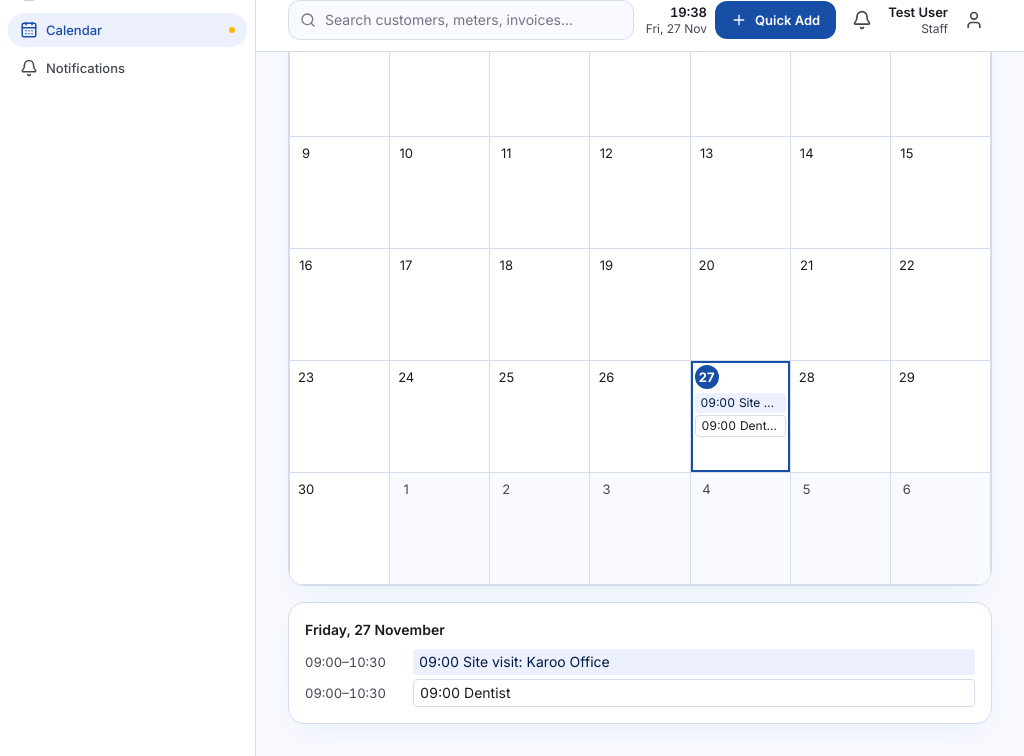
Google Calendar on the calendar page › shows Google events beside Umbane’s, and disconnects
The image size is (1024, 756).
(page scrolled)
What coordinates should you click on to do the following:
click the button with aria-label "Google Calendar: Dentist"
I would click on:
 (740, 426)
Its box is [695,415,786,437].
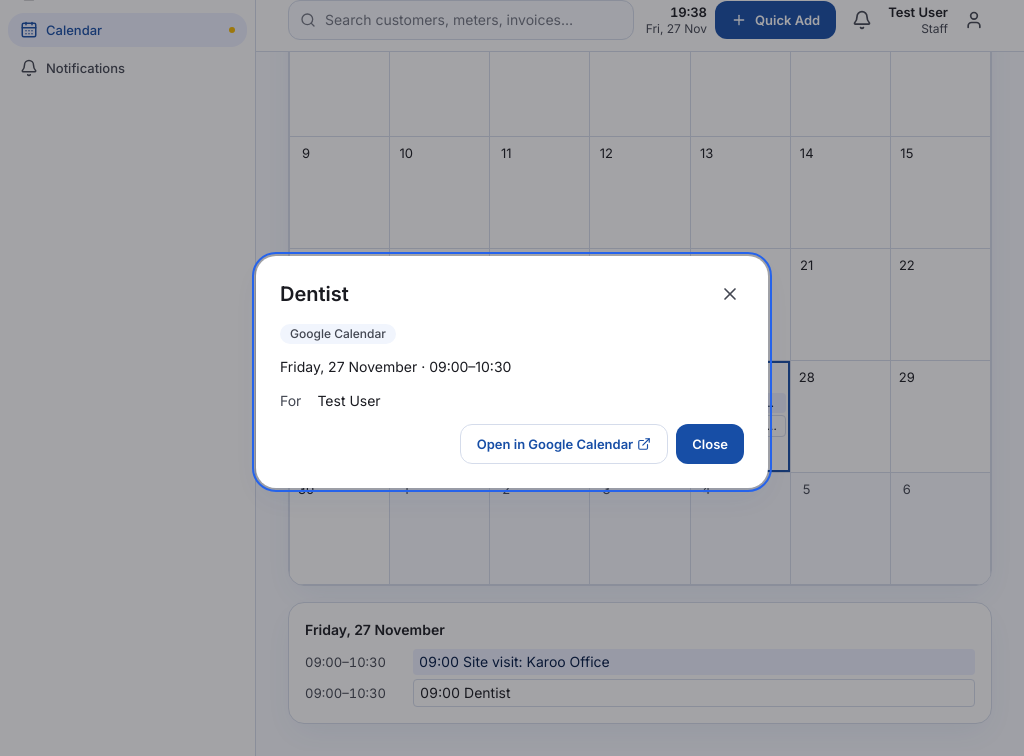
What coordinates should you click on to do the following:
click the button "Close"
I would click on:
 (710, 444)
Its box is [676,424,744,464].
(page scrolled)
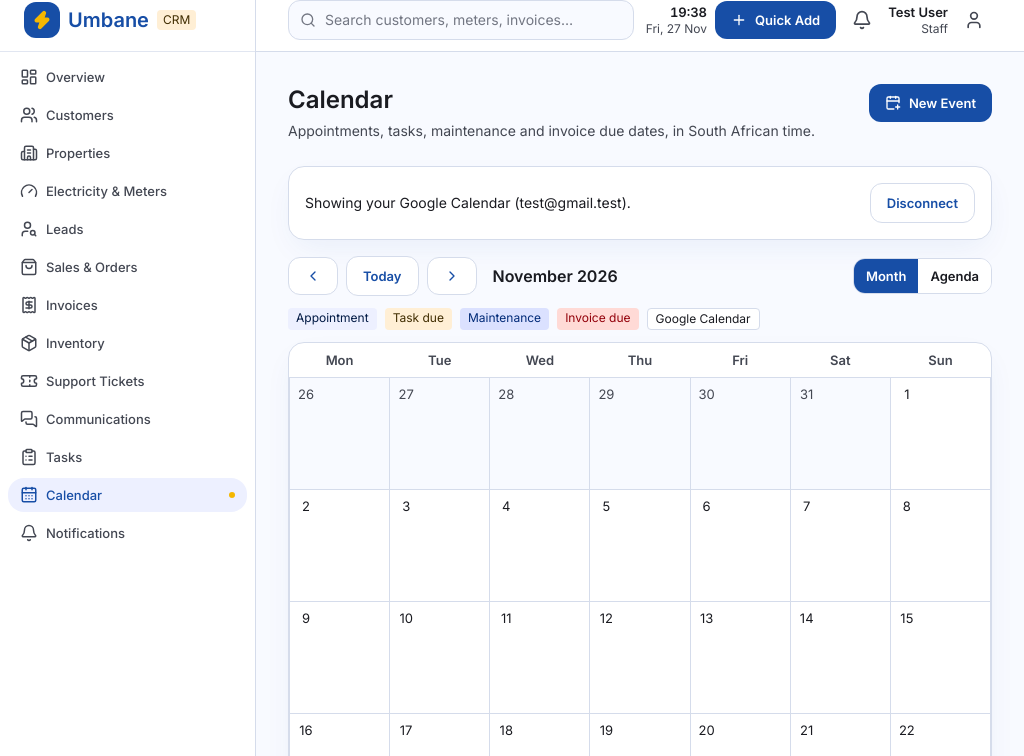
What coordinates should you click on to do the following:
click the button "Disconnect"
I would click on:
 (922, 203)
Its box is [870,183,975,223].
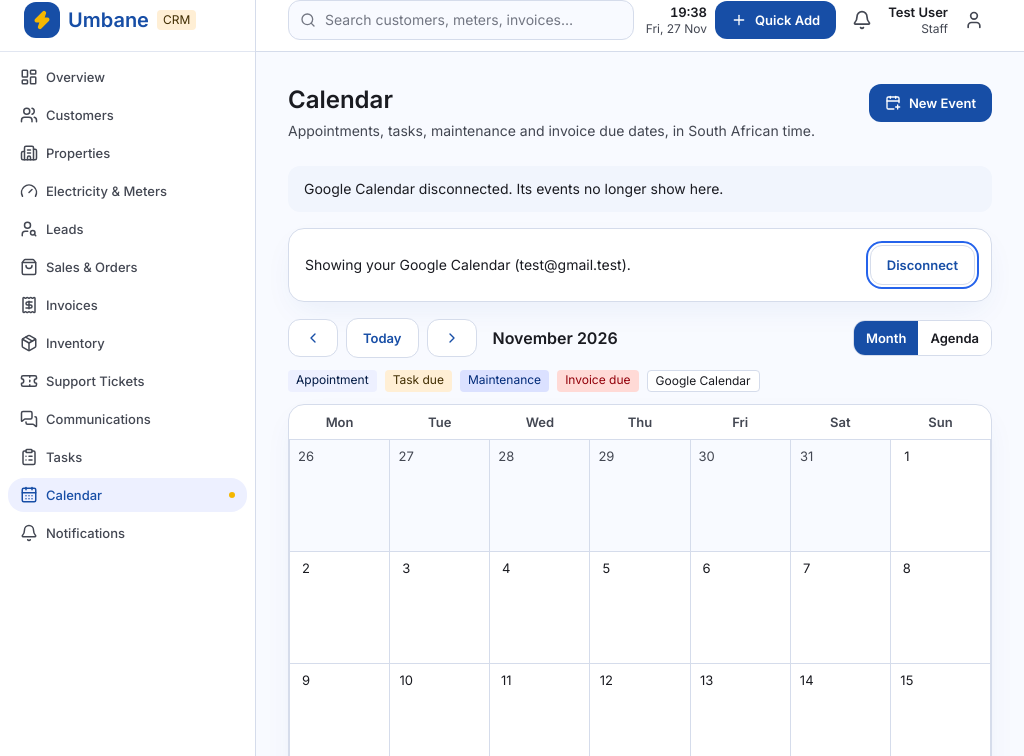
Result: the text "Google Calendar disconnected. Its events no longer show here." is shown at [288,166,992,212]
